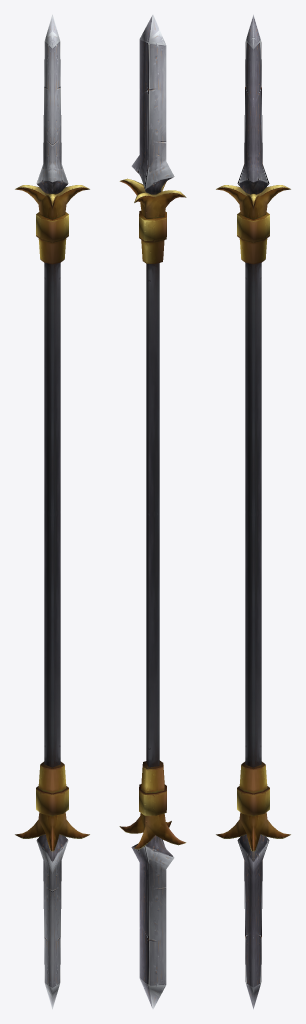
The model's file is 1205_wuqi_1.FBX.
The picture shows the model from 3 angles, left to right: view 1: azimuth 90°, elevation 25°; view 2: azimuth 150°, elevation 25°; view 3: azimuth 270°, elevation 25°; orthographic projection.
Visible parts, largest first — view 1: w1205_1; view 2: w1205_1; view 3: w1205_1.
Part boxes in pixels (bbox=[...]): w1205_1: bbox=[15, 14, 89, 1009]; w1205_1: bbox=[119, 14, 186, 1009]; w1205_1: bbox=[216, 14, 290, 1009].
Bounding box in the file's own units: 20.25 × 284 × 19.79.
